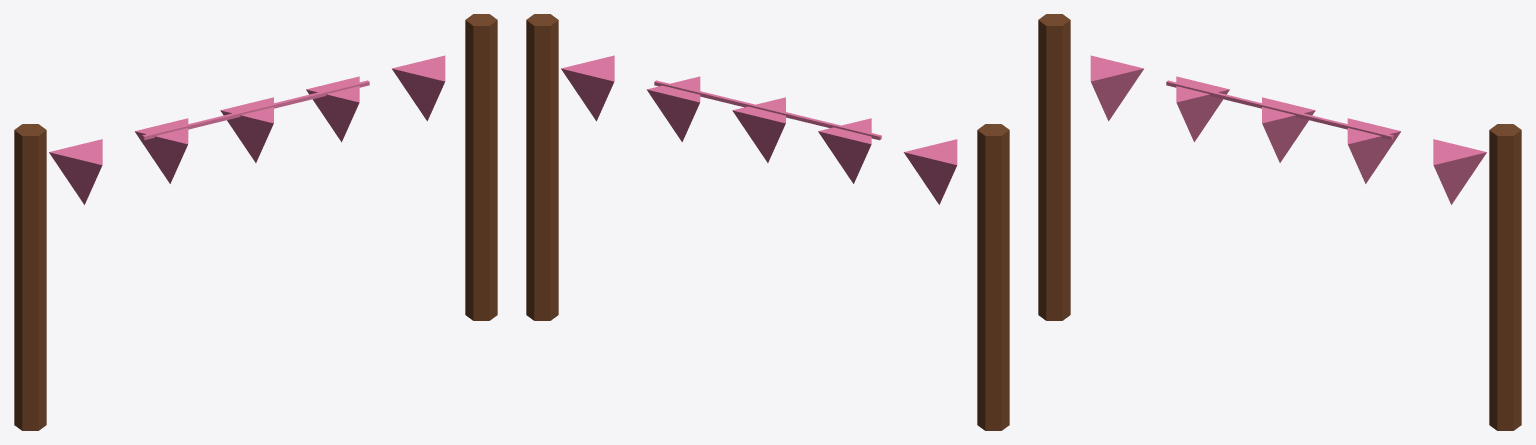
Rendered from banner_line.glb.
3 views of the same model, side by side, from view 1: azimuth 30°, elevation 25°; view 2: azimuth 150°, elevation 25°; view 3: azimuth 330°, elevation 25° (orthographic).
Visible parts, largest first — view 1: Cone; view 2: Cone; view 3: Cone.
Part boxes in pixels (<box>): Cone: <box>14,14,497,430</box>; Cone: <box>526,14,1009,430</box>; Cone: <box>1038,14,1521,430</box>.
Size of the model in its own units: 2.19 by 1.3 by 0.2145.
